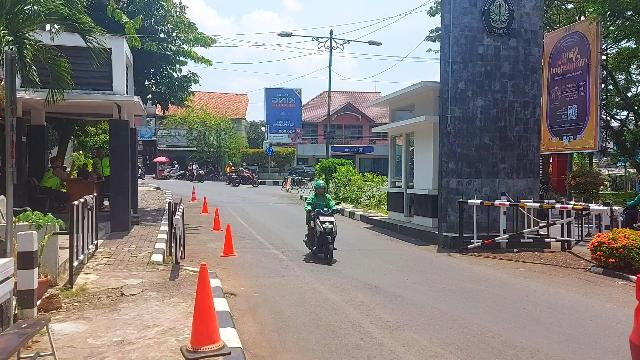motor: (304, 210, 342, 265), (315, 181, 328, 195)
